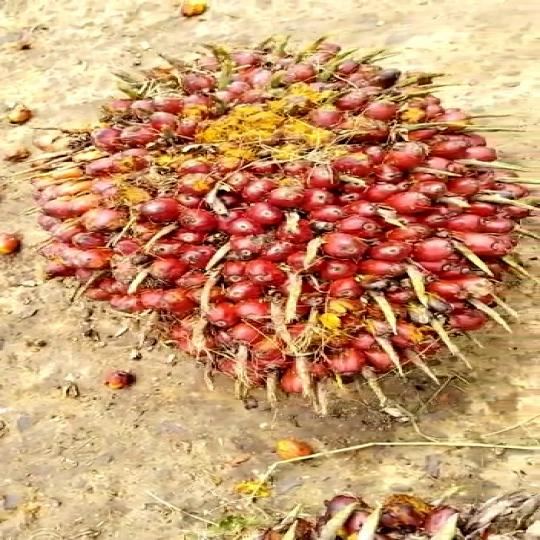kurang masak: (36, 26, 539, 419)
